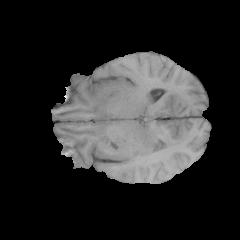glioma: (97, 118, 167, 160)
